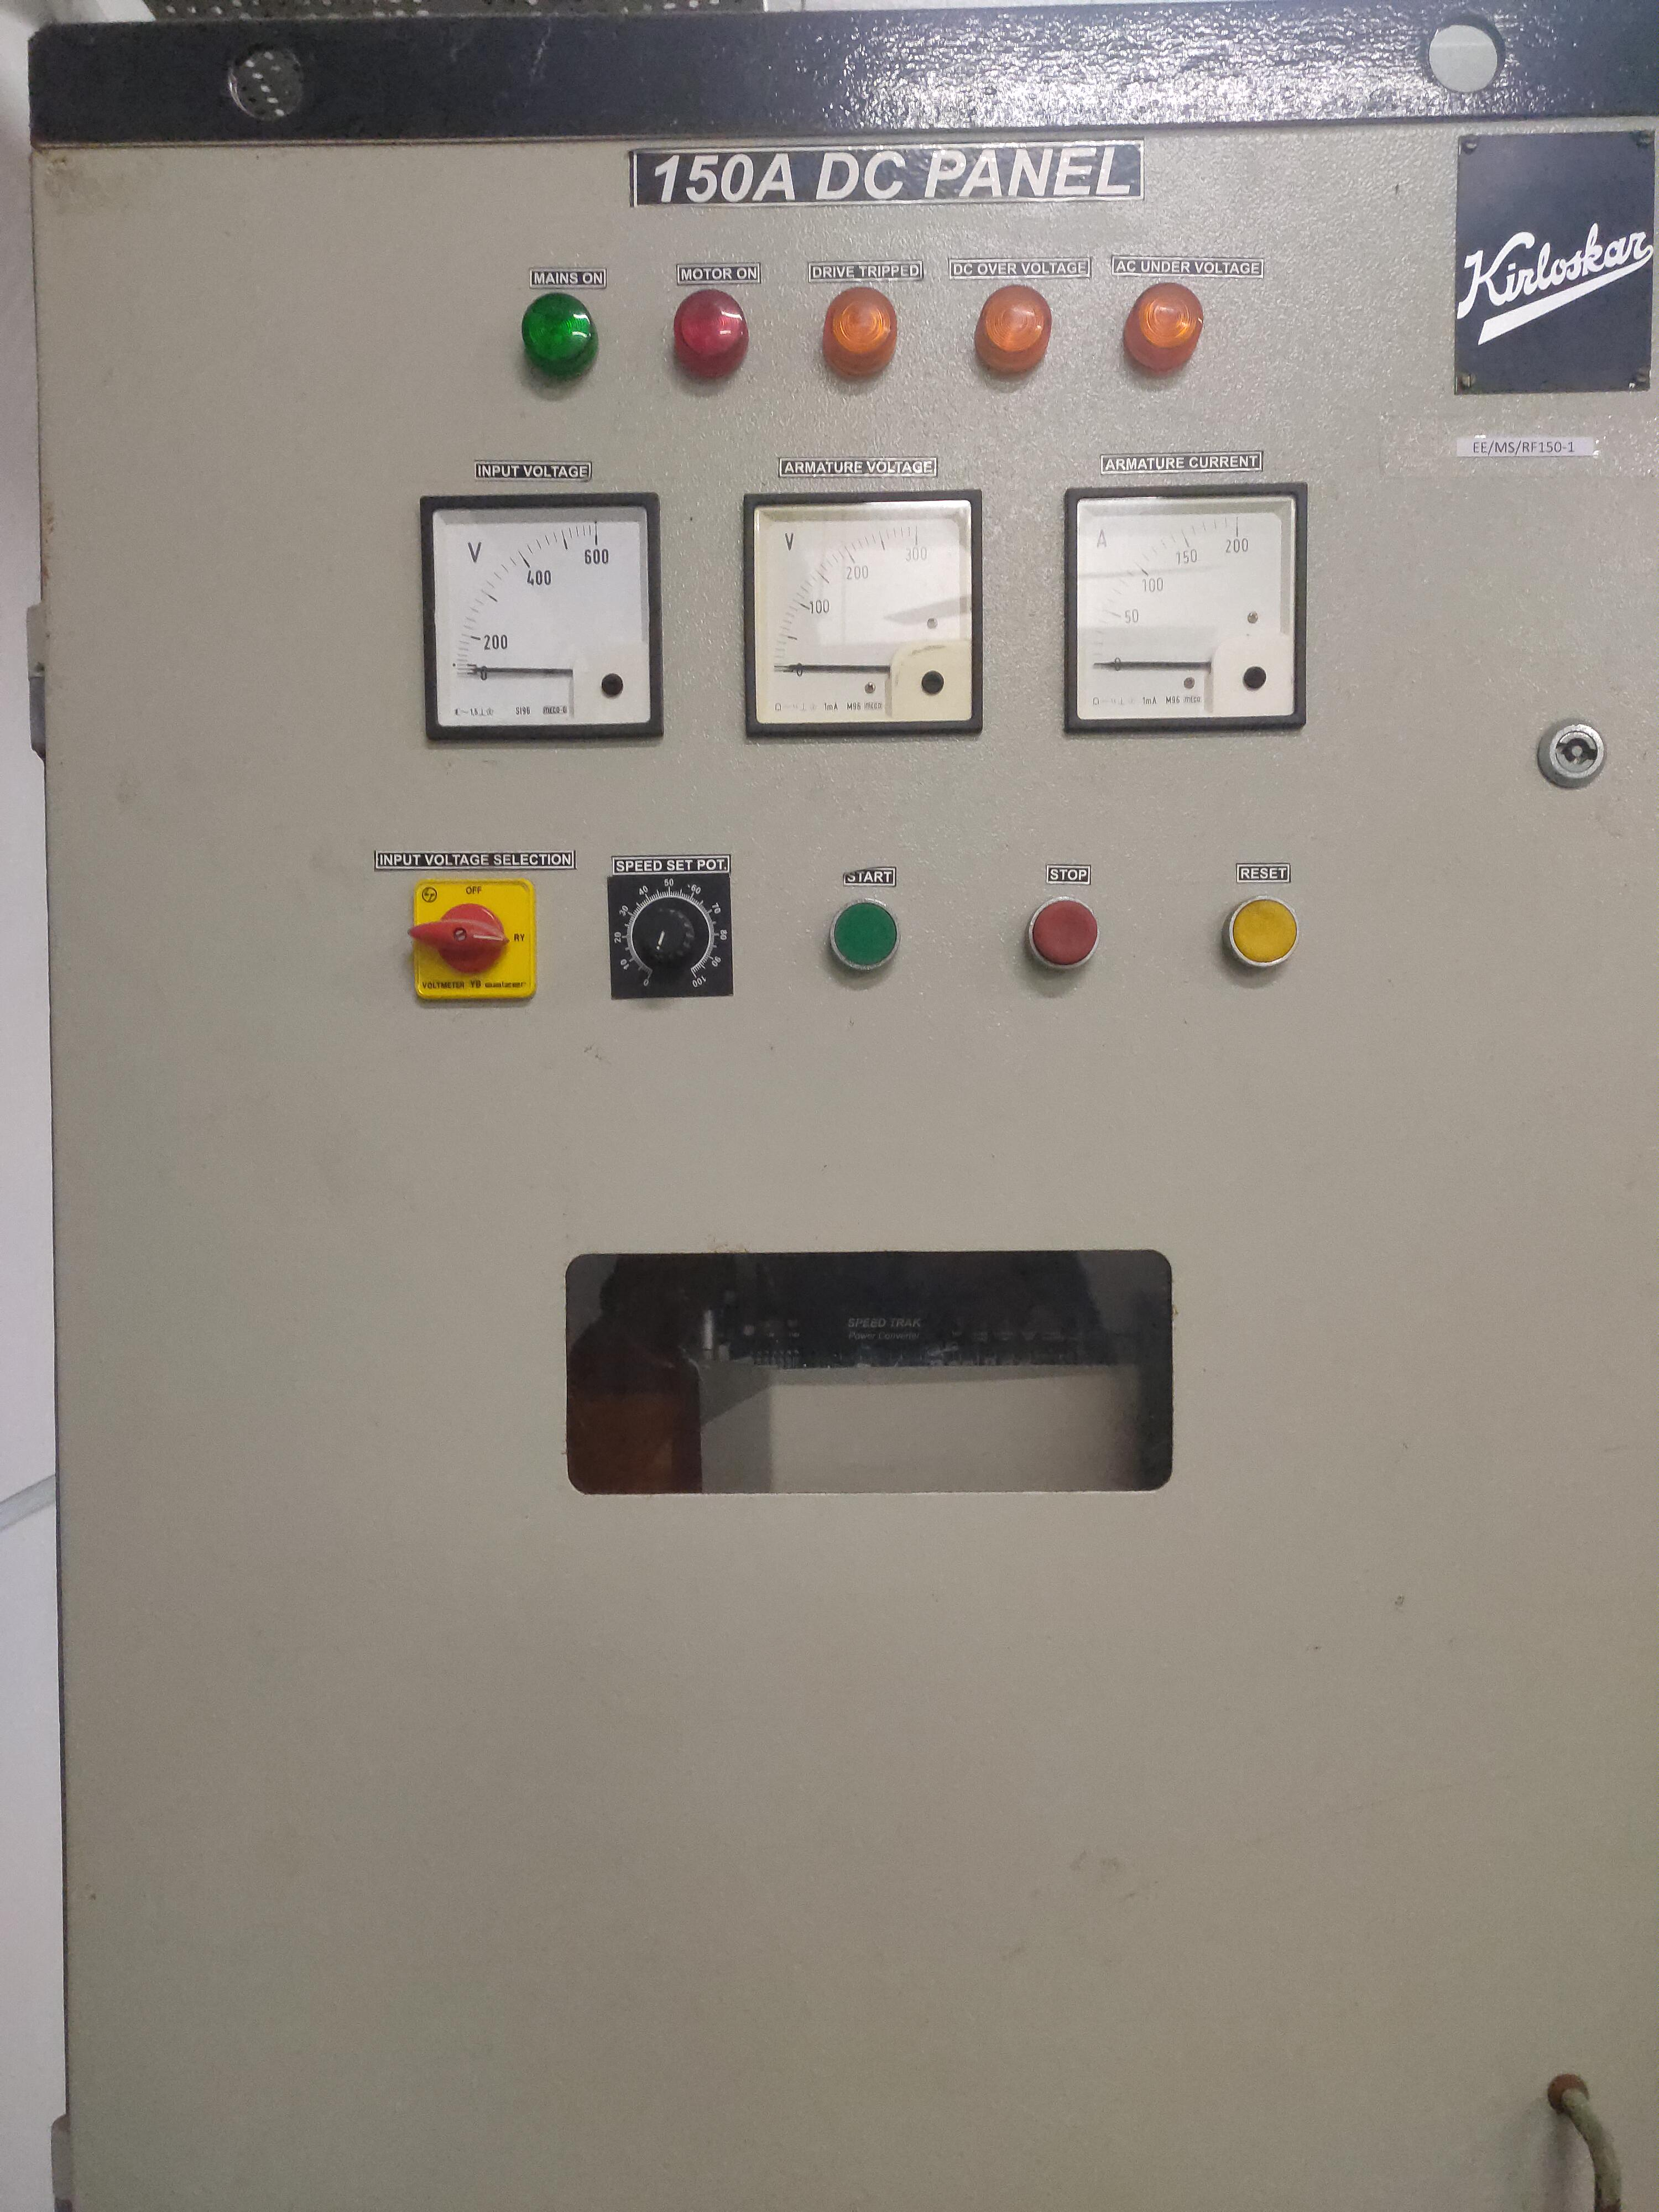Light Indications: (486, 242, 1239, 437)
